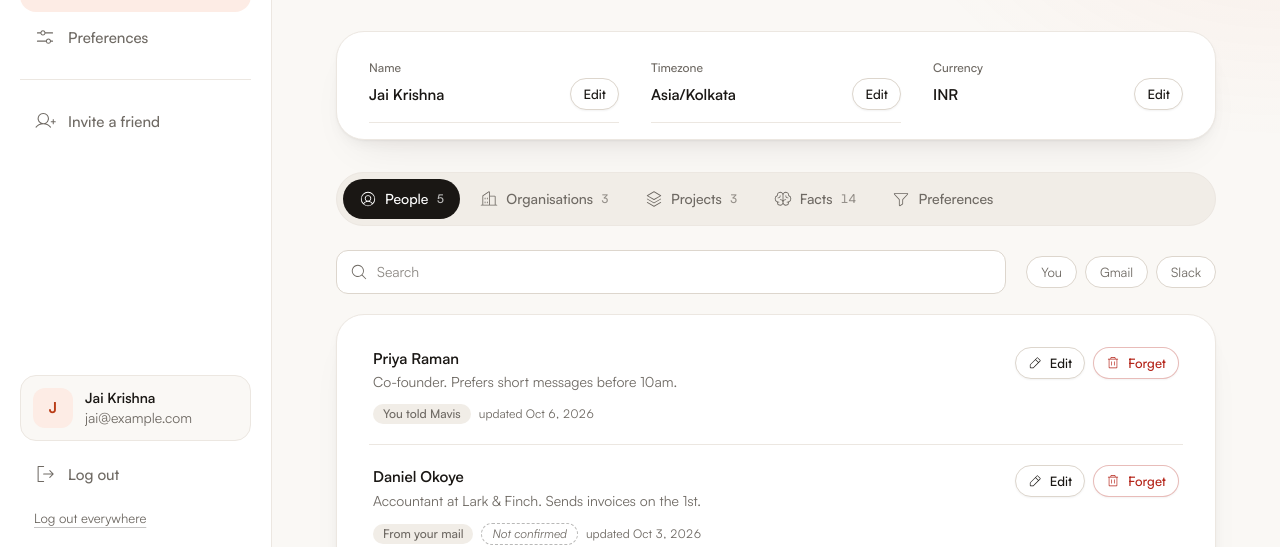
Test: vault › forgets an item and can suppress re-learning
Click the button with aria-label "Forget Daniel Okoye": (1136, 481) [1093,465,1179,497]
(page scrolled)
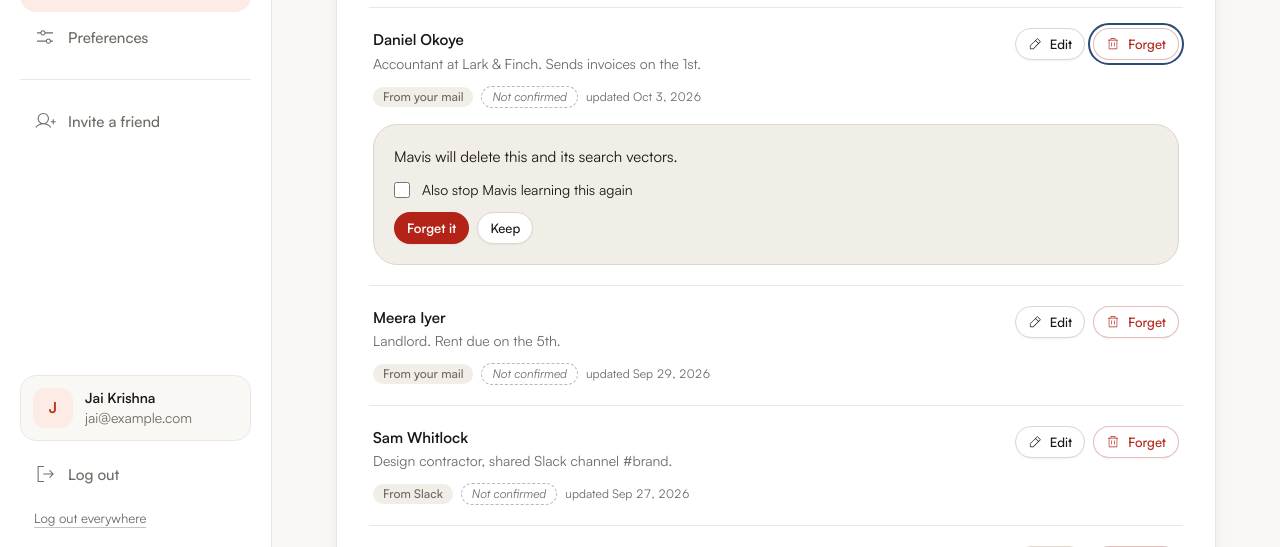
Click the checkbox labelled "Also stop Mavis learning this again": (402, 190) [394,182,410,198]
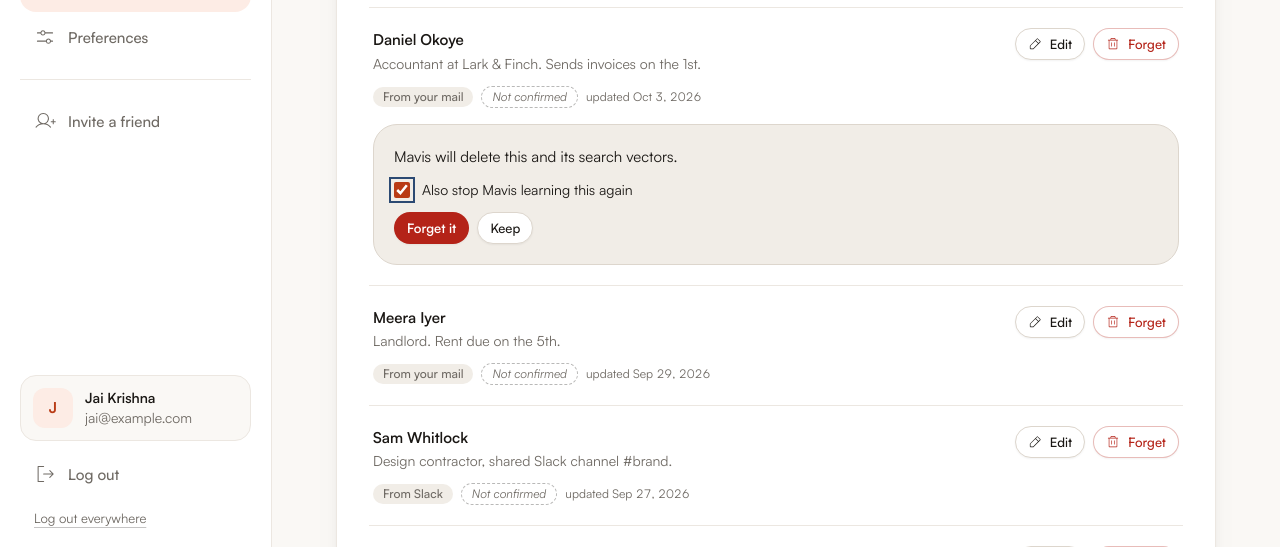
Click the button "Forget it": (432, 228) [394,212,469,244]
(page scrolled)
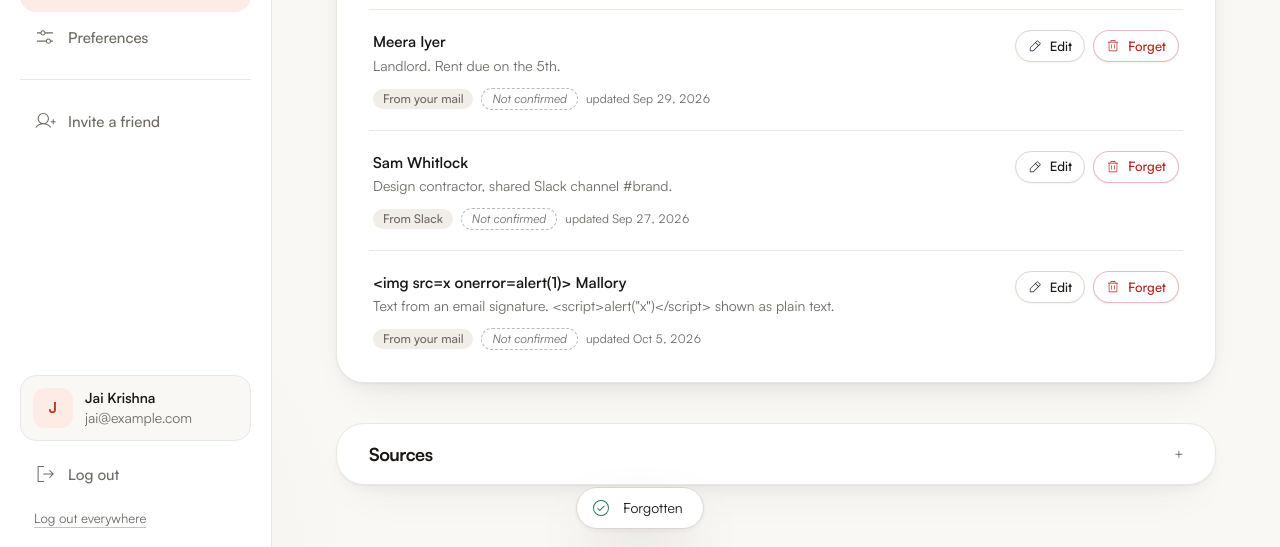
Now the text "Daniel Okoye" is gone
